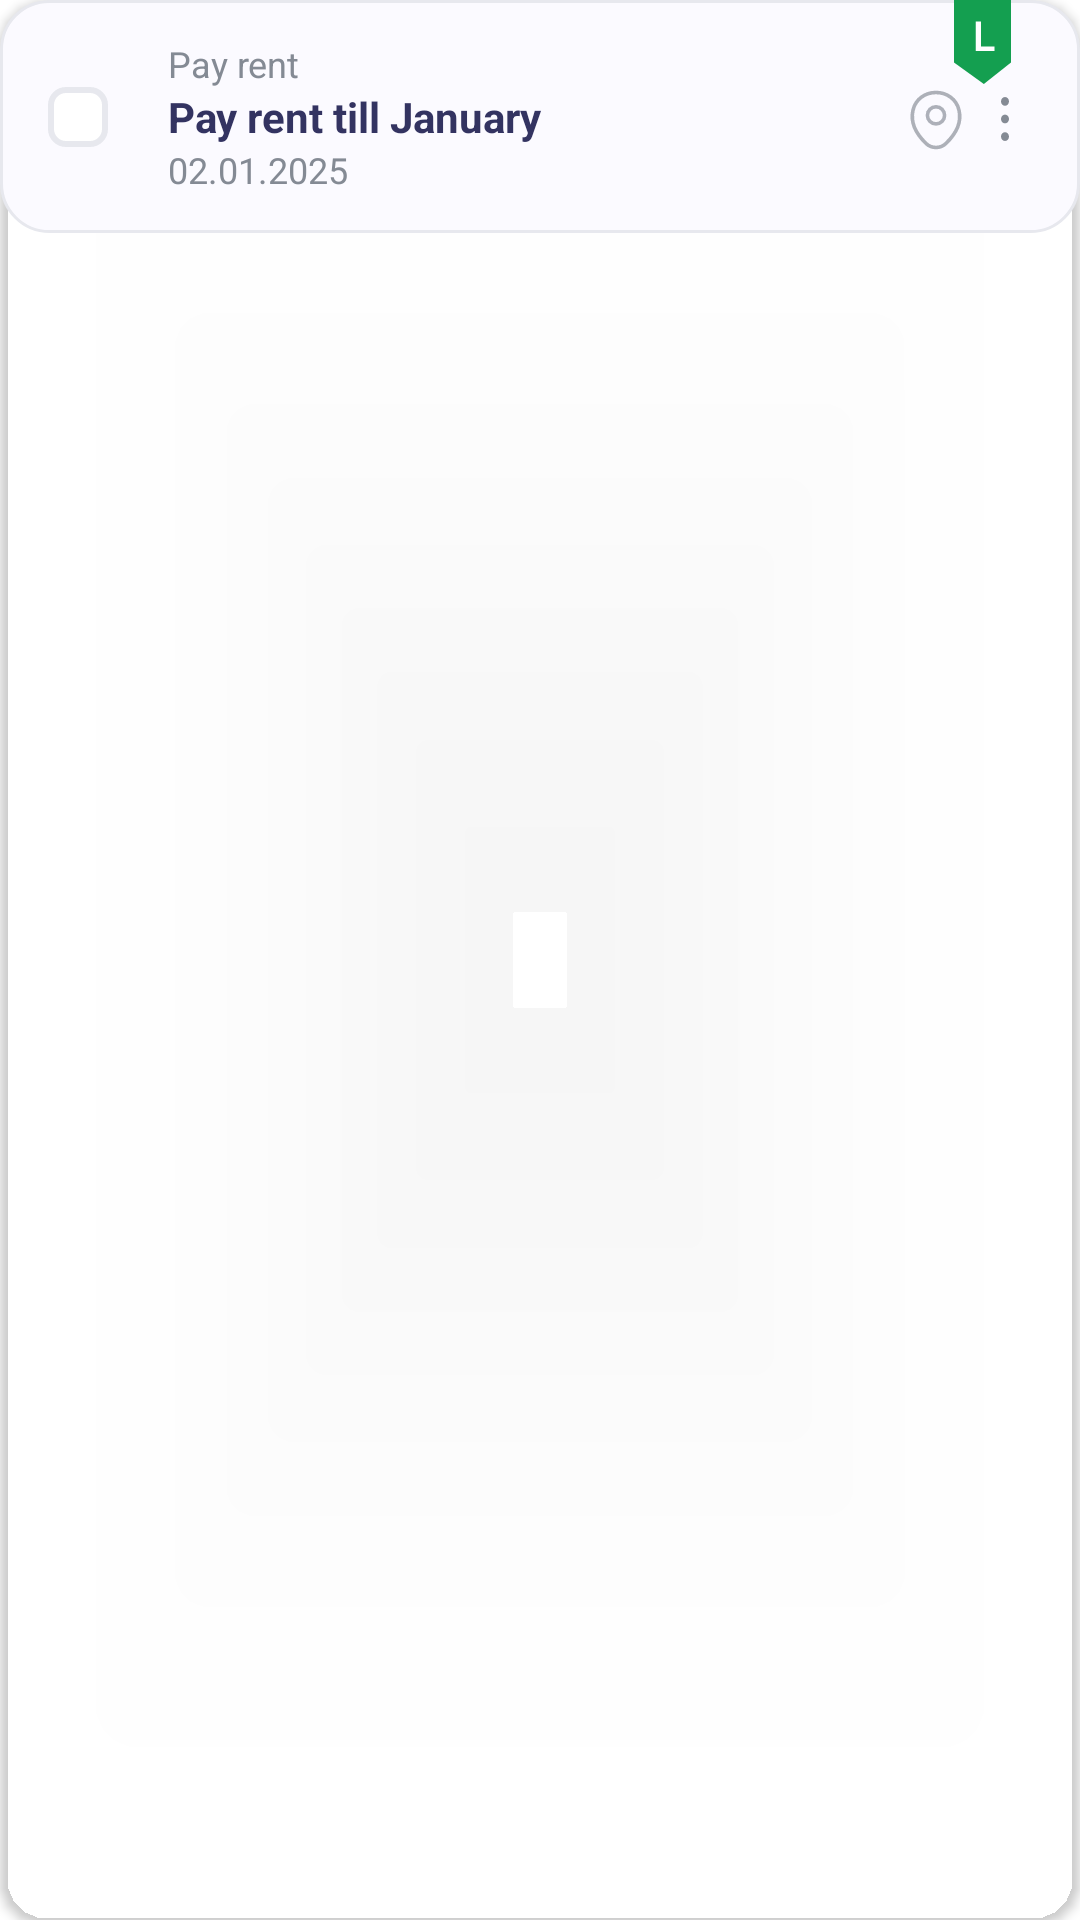

Point at icon controls on the screen. Image size 1080 × 1920, points as (x=x, y=y).
location: (x=936, y=120)
low priority: (x=982, y=42)
